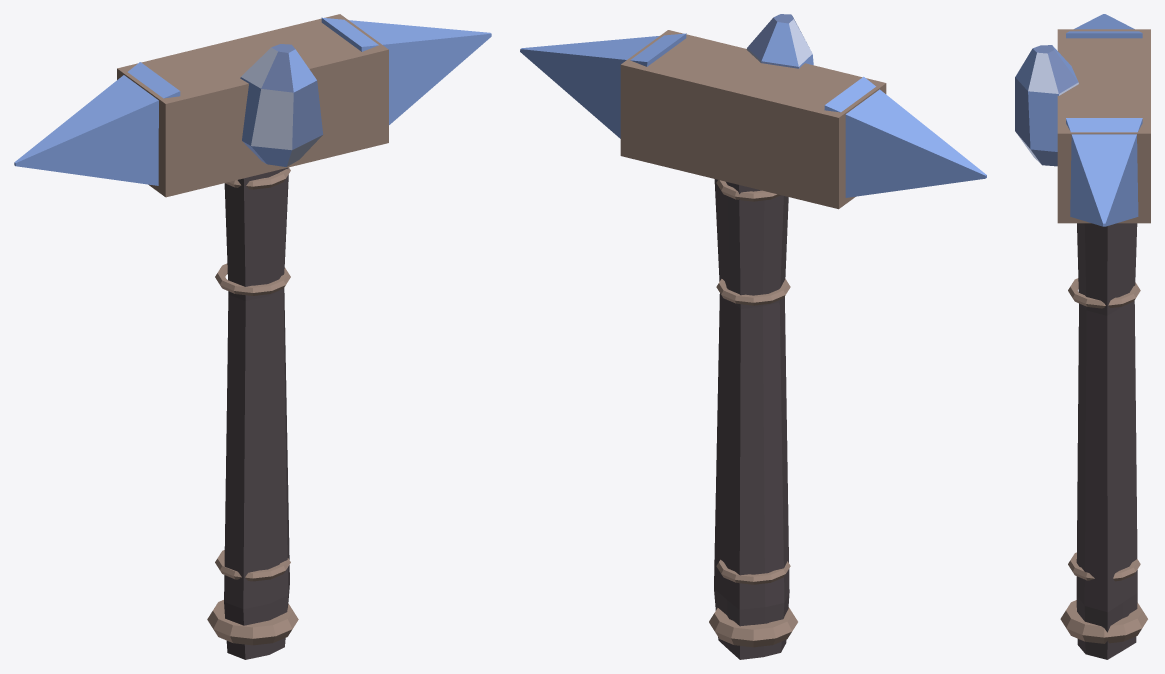
Rendered from BH_PICK_P08_Picareta_Furia_de_Safira_V01.glb.
The picture shows the model from 3 angles, left to right: view 1: azimuth 30°, elevation 25°; view 2: azimuth 150°, elevation 25°; view 3: azimuth 270°, elevation 25°; orthographic projection. The views are drawn at different scales.
Parts seen in each view (by area): view 1: Handle | shaped shaft.001, Head | main crossbar.001, Head | mining tooth L.001, Head | inset mineral.001, Head | mining tooth R.001, Handle | pommel.001, Handle | binding 3.001, Handle | binding 1.001; view 2: Handle | shaped shaft.001, Head | main crossbar.001, Head | mining tooth L.001, Head | mining tooth R.001, Head | inset mineral.001, Handle | pommel.001, Handle | binding 3.001, Handle | binding 1.001; view 3: Handle | shaped shaft.001, Head | main crossbar.001, Head | mining tooth R.001, Head | inset mineral.001, Handle | pommel.001, Head | mining tooth L.001, Handle | binding 3.001, Handle | binding 1.001.
Part boxes in pixels (left/top/right/bottom): Handle | shaped shaft.001: left=224, top=167, right=289, bottom=659; Head | main crossbar.001: left=117, top=14, right=388, bottom=197; Head | mining tooth L.001: left=14, top=62, right=180, bottom=185; Head | inset mineral.001: left=240, top=44, right=323, bottom=166; Head | mining tooth R.001: left=321, top=17, right=491, bottom=124; Handle | pommel.001: left=207, top=600, right=298, bottom=645; Handle | binding 3.001: left=215, top=263, right=290, bottom=295; Handle | binding 1.001: left=215, top=550, right=290, bottom=581; Handle | shaped shaft.001: left=714, top=179, right=789, bottom=659; Head | main crossbar.001: left=620, top=30, right=886, bottom=209; Head | mining tooth L.001: left=824, top=76, right=986, bottom=197; Head | mining tooth R.001: left=520, top=33, right=686, bottom=138; Head | inset mineral.001: left=746, top=14, right=813, bottom=68; Handle | pommel.001: left=709, top=607, right=797, bottom=647; Handle | binding 3.001: left=716, top=279, right=790, bottom=305; Handle | binding 1.001: left=716, top=559, right=790, bottom=584; Handle | shaped shaft.001: left=1076, top=223, right=1137, bottom=659; Head | main crossbar.001: left=1057, top=29, right=1150, bottom=223; Head | mining tooth R.001: left=1066, top=118, right=1142, bottom=226; Head | inset mineral.001: left=1015, top=45, right=1078, bottom=166; Handle | pommel.001: left=1060, top=600, right=1147, bottom=643; Head | mining tooth L.001: left=1066, top=14, right=1142, bottom=38; Handle | binding 3.001: left=1068, top=278, right=1140, bottom=308; Handle | binding 1.001: left=1068, top=552, right=1140, bottom=581.
Bounding box in the file's own units: 1.92 × 2.39 × 0.4952.
